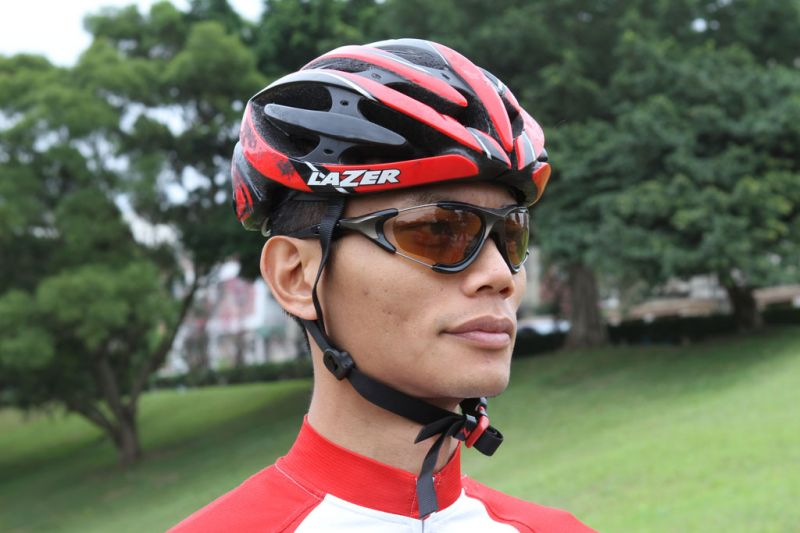helmet: (214, 60, 543, 208)
